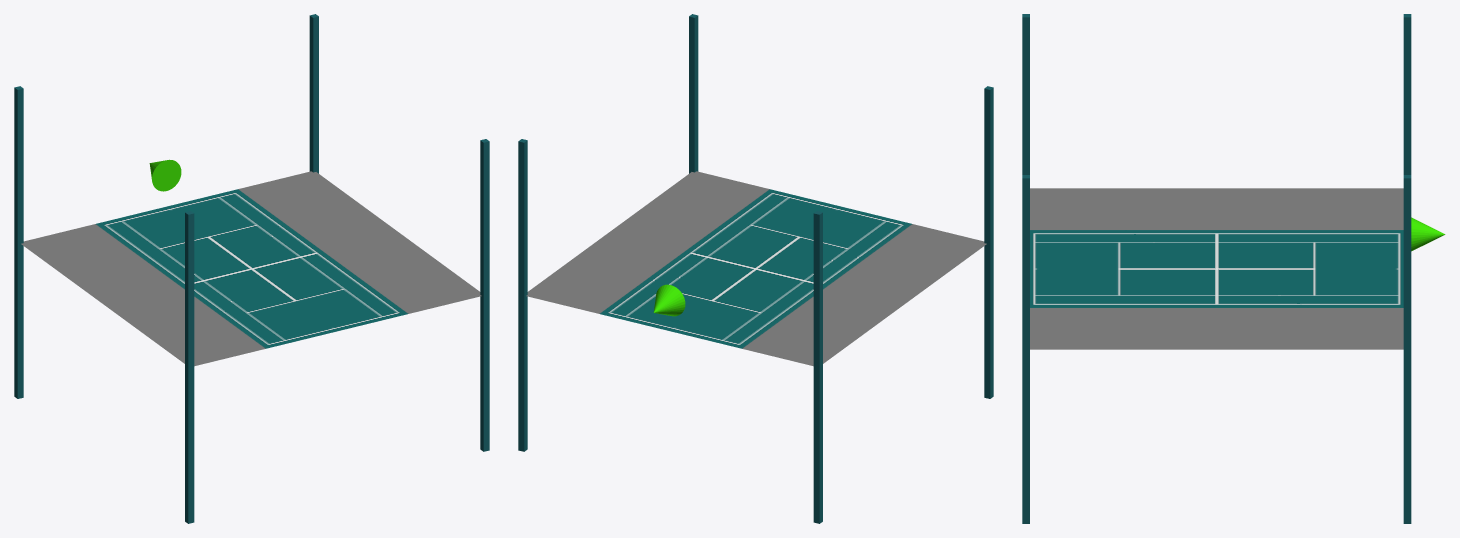
3 renders of one model, left to right at view 1: azimuth 30°, elevation 25°; view 2: azimuth 150°, elevation 25°; view 3: azimuth 270°, elevation 25°, orthographic. The views are drawn at different scales.
Visible parts, largest first — view 1: DebugPlane, Pillar.002, Pillar.003, Pillar.001, Pillar, Cone; view 2: DebugPlane, Pillar, Pillar.001, Pillar.002, Pillar.003, Cone; view 3: DebugPlane, Pillar, Pillar.003, Pillar.001, Pillar.002, Cone.
Boxes of the visible parts, x1,y1,x2,y2 form: DebugPlane: [21, 171, 481, 366]; Pillar.002: [185, 211, 194, 523]; Pillar.003: [480, 139, 489, 451]; Pillar.001: [14, 86, 23, 398]; Pillar: [309, 14, 318, 173]; Cone: [149, 159, 181, 191]; DebugPlane: [526, 171, 986, 366]; Pillar: [518, 139, 527, 451]; Pillar.001: [813, 211, 822, 523]; Pillar.002: [984, 86, 993, 398]; Pillar.003: [689, 14, 698, 173]; Cone: [653, 284, 685, 316]; DebugPlane: [1030, 188, 1403, 349]; Pillar: [1403, 175, 1411, 523]; Pillar.003: [1022, 175, 1029, 523]; Pillar.001: [1403, 14, 1411, 174]; Pillar.002: [1022, 14, 1029, 174]; Cone: [1411, 217, 1445, 251].
Bounding box in the file's own units: 102 × 100 × 111.
Materials: 3 (1 with a texture image).
